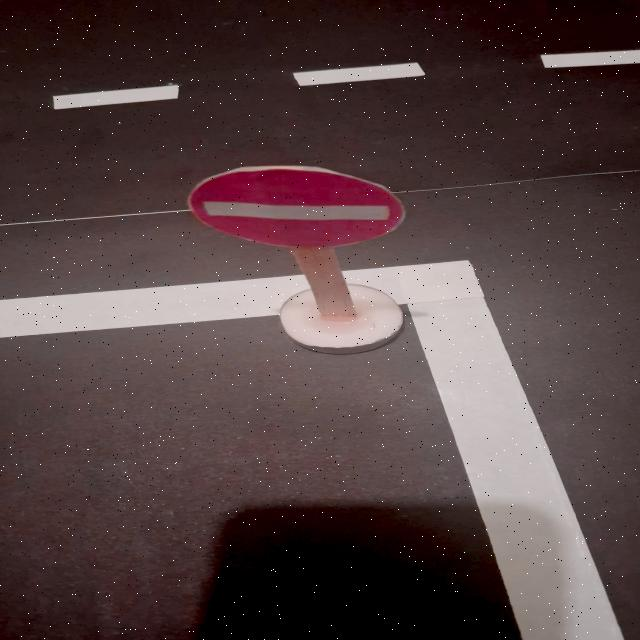Dilarang Masuk: (187, 165, 405, 251)
